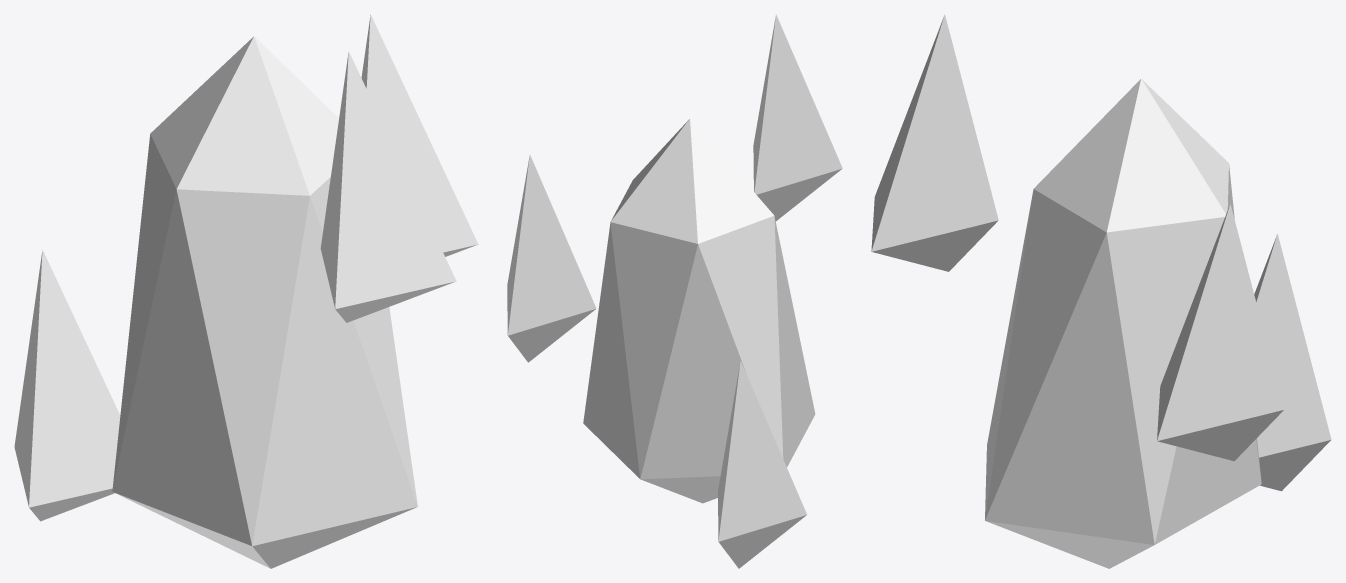
The model's file is chrystal.FBX.
The picture shows the model from 3 angles, left to right: view 1: azimuth 30°, elevation 25°; view 2: azimuth 150°, elevation 25°; view 3: azimuth 270°, elevation 25°; orthographic projection. The views are drawn at different scales.
Parts seen in each view (by area): view 1: chrystal; view 2: chrystal; view 3: chrystal.
Part boxes in pixels (x1=…): chrystal: x1=14, y1=14, x2=478, y2=568; chrystal: x1=507, y1=14, x2=842, y2=568; chrystal: x1=871, y1=14, x2=1331, y2=568.
Bounding box in the file's own units: 18.7 × 24.7 × 18.71.
Materials: 1 (1 with a texture image).
